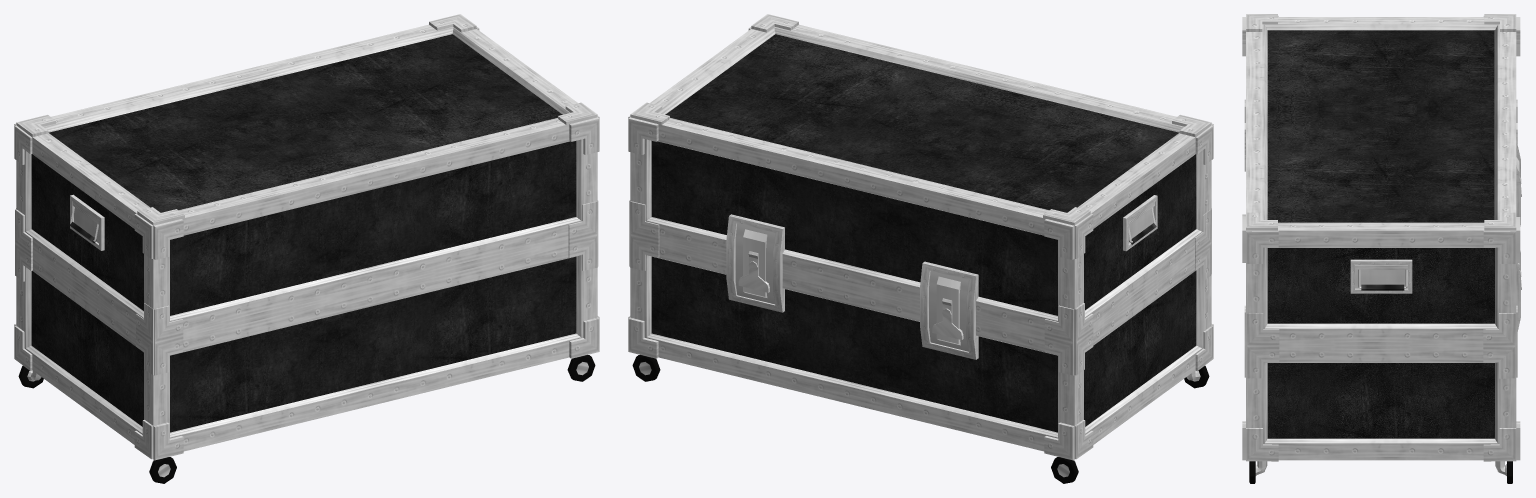
Rendered from w_flight_case_small_1.fbx.
3 views of the same model, side by side, from view 1: azimuth 30°, elevation 25°; view 2: azimuth 150°, elevation 25°; view 3: azimuth 270°, elevation 25° (orthographic).
Visible parts, largest first — view 1: w_flight_case_small_1; view 2: w_flight_case_small_1; view 3: w_flight_case_small_1.
Part boxes in pixels (<box>): w_flight_case_small_1: <box>14,14,599,483</box>; w_flight_case_small_1: <box>628,14,1213,483</box>; w_flight_case_small_1: <box>1242,14,1521,483</box>.
Size of the model in its own units: 1.65 by 0.927 by 0.8953.
